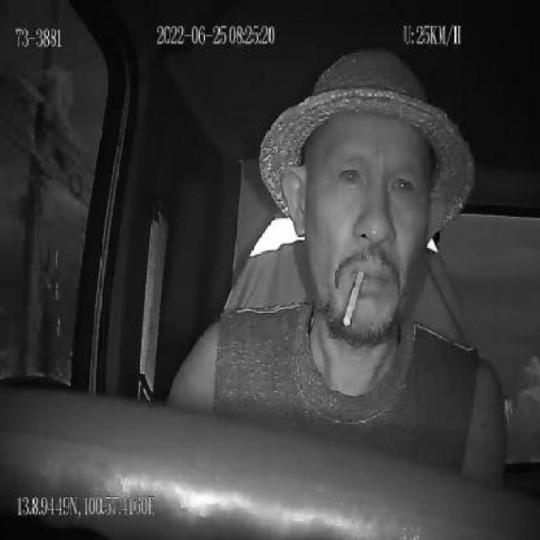smoking: (342, 264, 367, 328)
